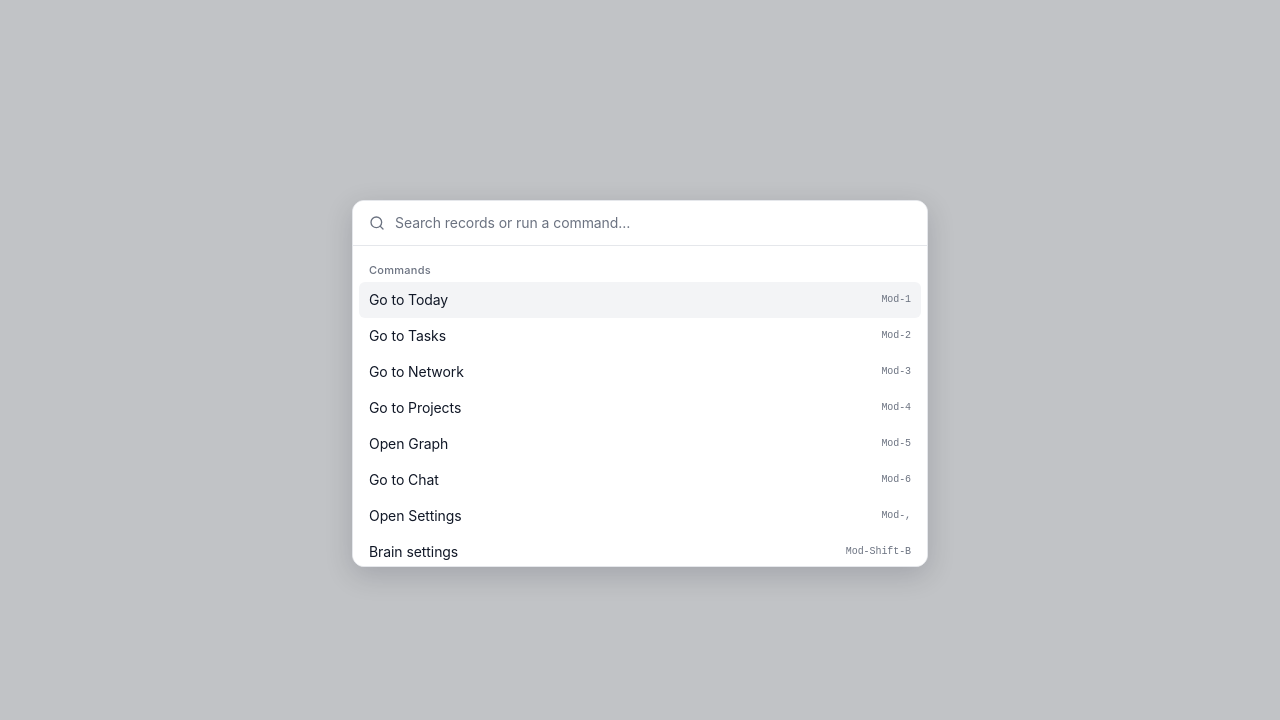
Scenario: CommandPalette › uses search snippets and lists records before commands
Step 1. Type "chat" into the dropdown with placeholder "Search records or run a command…" → (653, 223), box [395, 201, 911, 245]
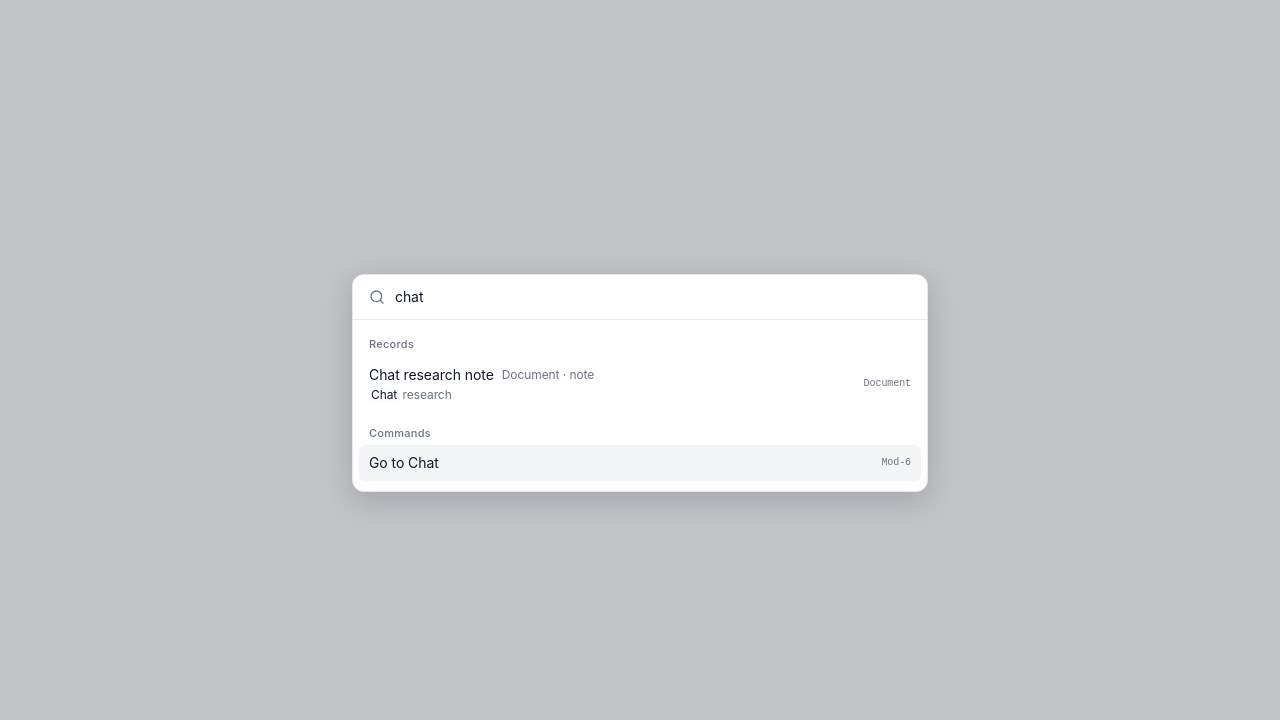
Expected: the text "Go to Chat" is shown, [369, 453, 439, 473]
Now the text "Chat research note" is shown, box [369, 365, 494, 385]
